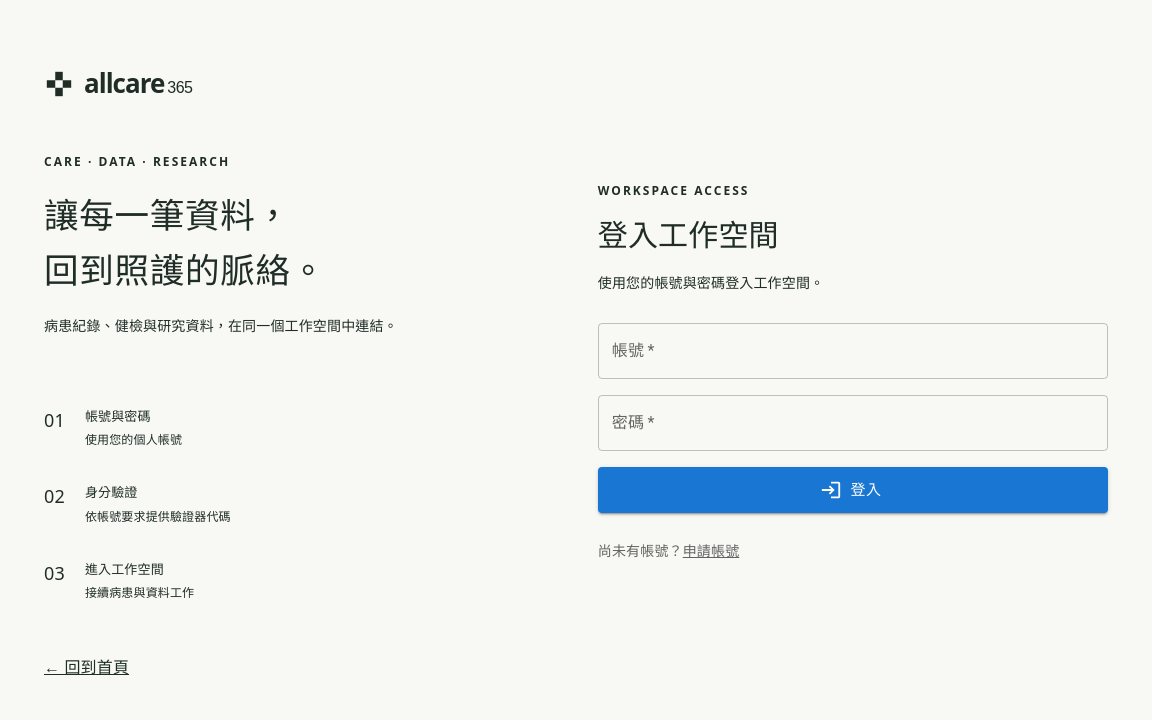
Test: MFA enrollment and verification ignore repeated pending submissions
Step 1. Type "clinician" into the field labelled "帳號 *" → (853, 351), box [598,323,1108,379]
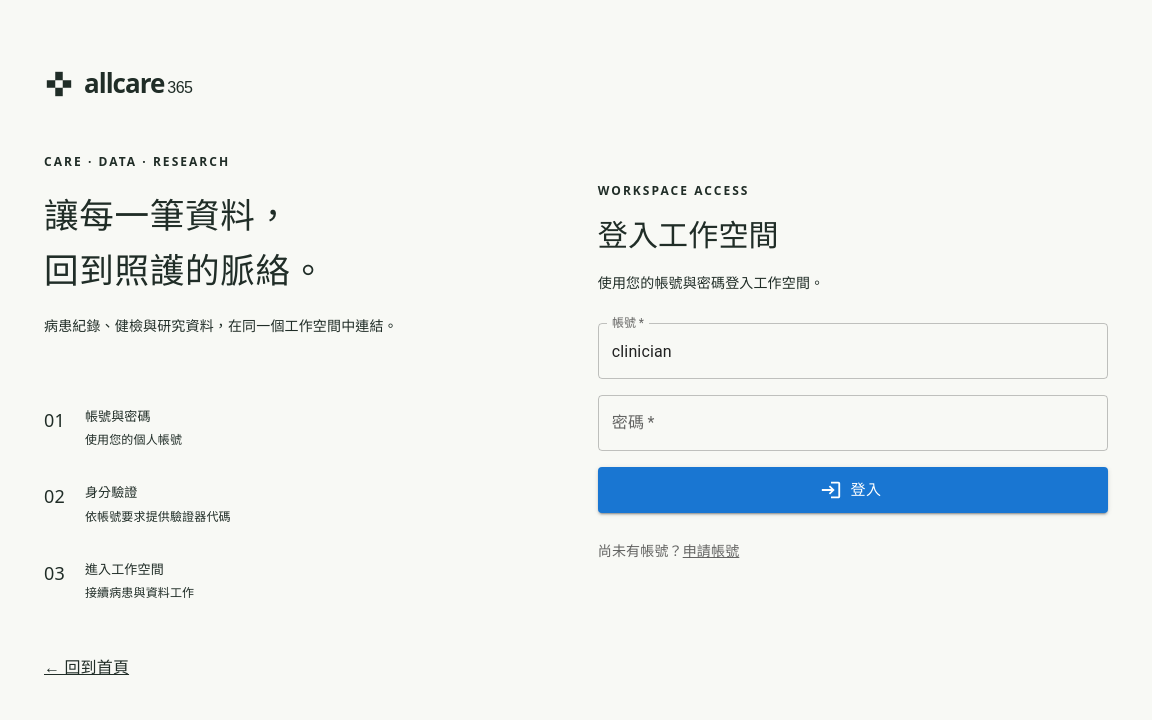
Step 2. Type "password" into the password field labelled "密碼 *" → (853, 423), box [598,395,1108,451]
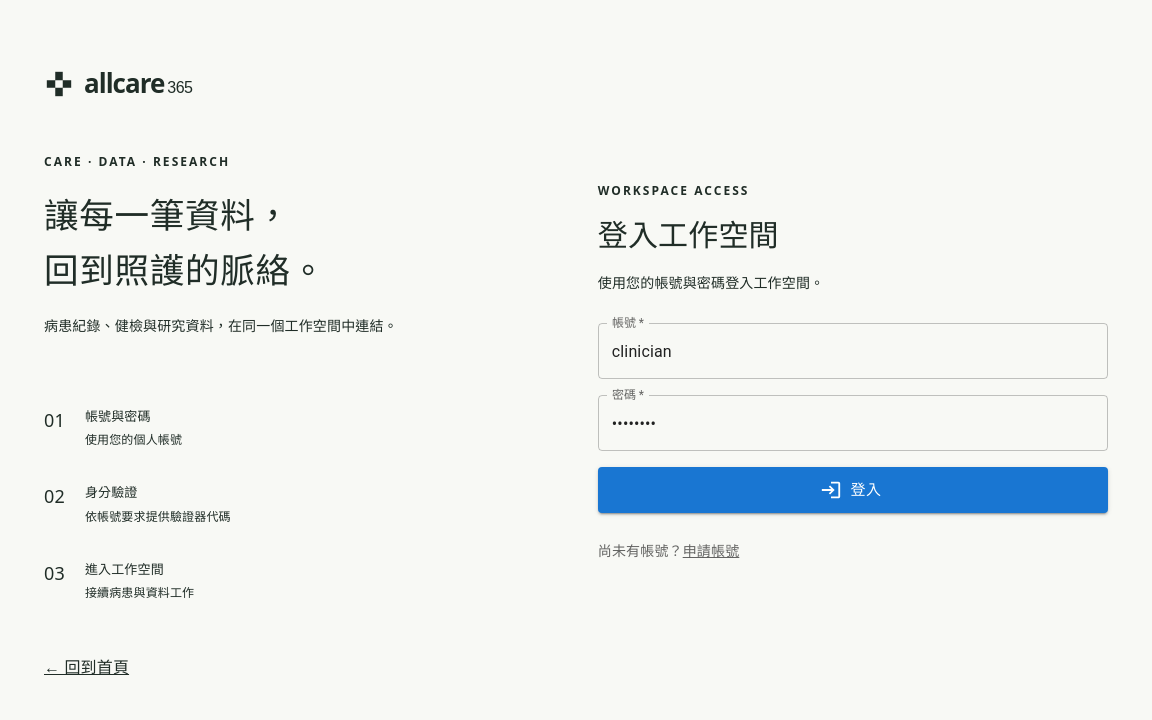
Step 3. Submit the form "登入", box [598,323,1108,513]
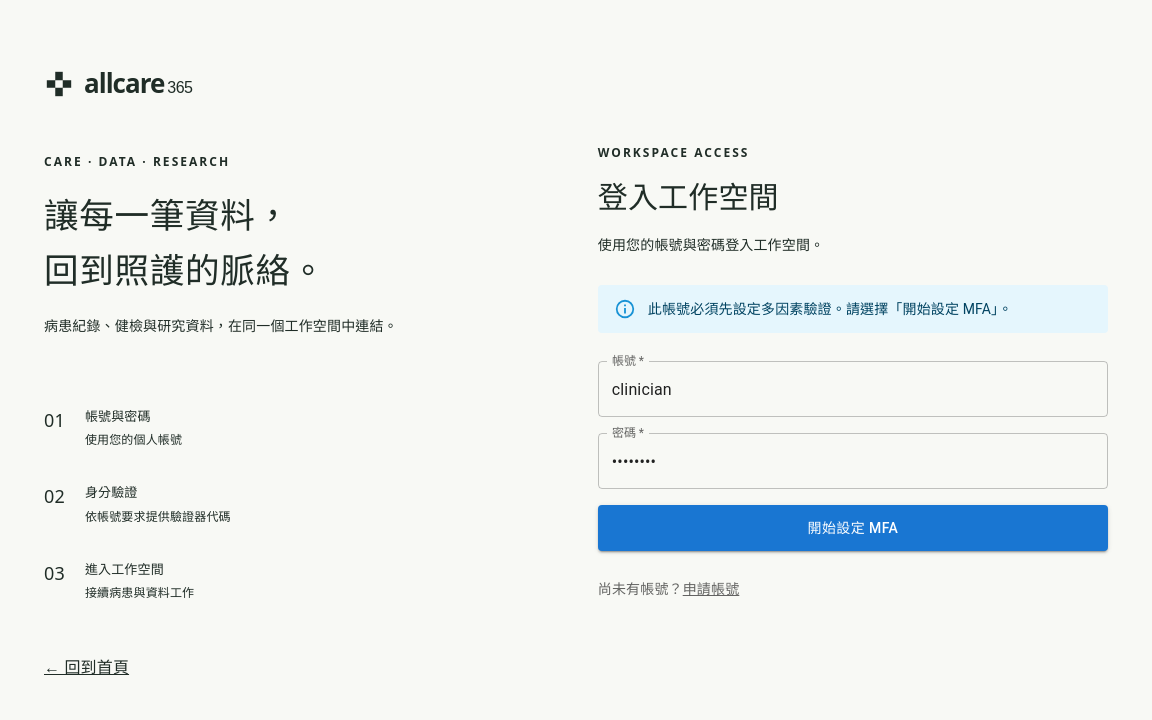
Now the button "開始設定 MFA" is shown, box [598,505,1108,551]
Step 4. Submit the form named "登入", box [598,361,1108,551]
Step 5. Submit the form named "登入", box [598,361,1108,551]
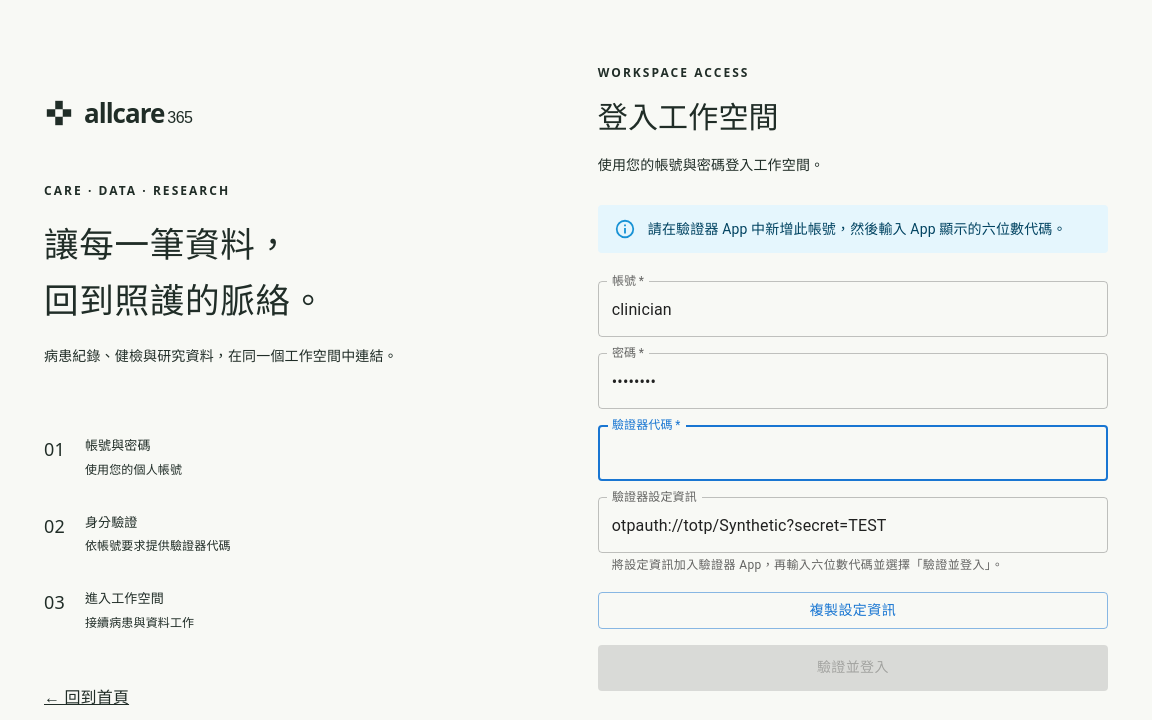
Step 6. Type "123456" into the field labelled "驗證器代碼 *" → (853, 453), box [598,425,1108,481]
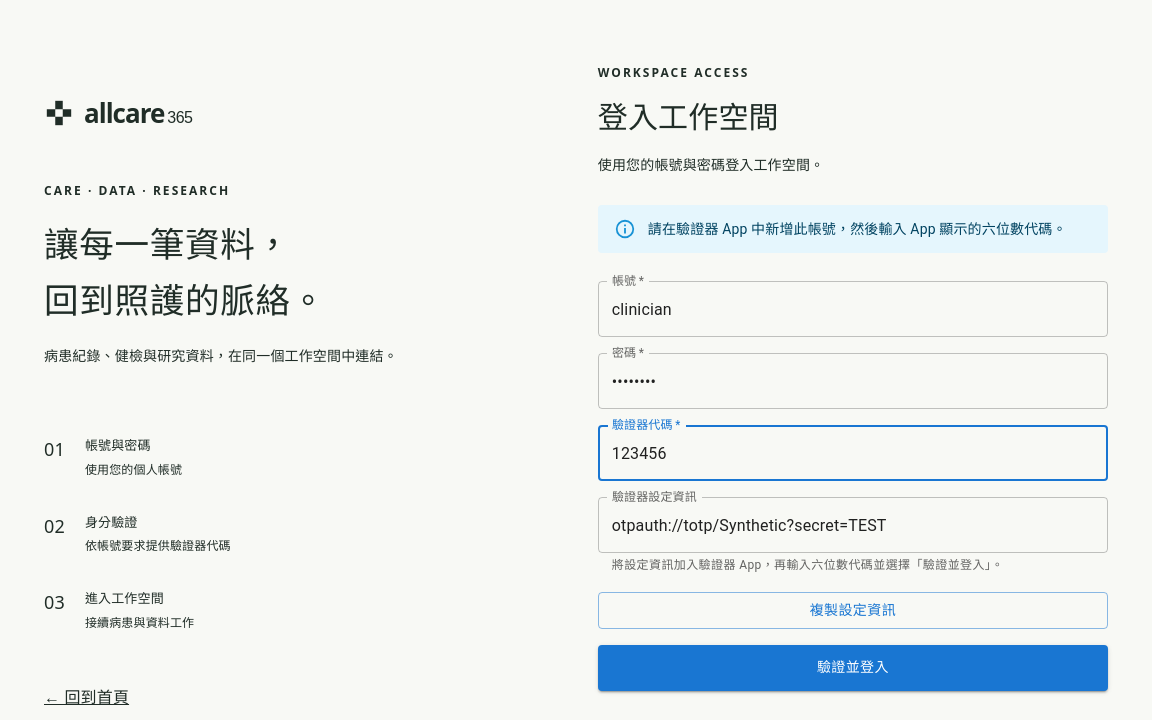
Step 7. Submit the form "登入", box [598,281,1108,691]
Step 8. Submit the form "登入", box [598,281,1108,691]
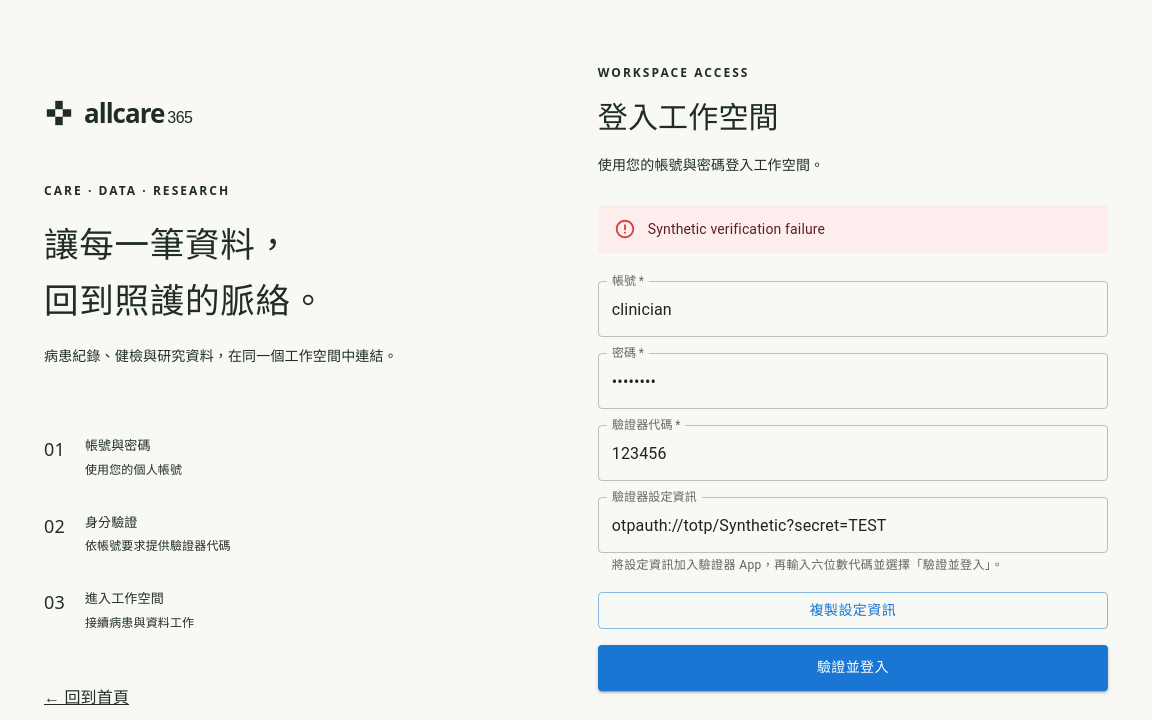
Now the button "驗證並登入" is enabled, box [598,645,1108,691]
Now the text "Synthetic verification failure" is shown, box [648,221,825,237]
